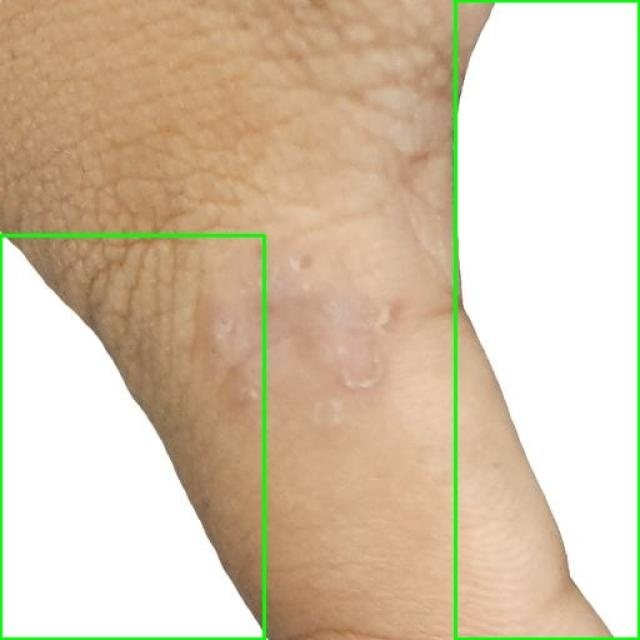Scabies: (455, 0, 639, 639), (0, 235, 264, 639)
